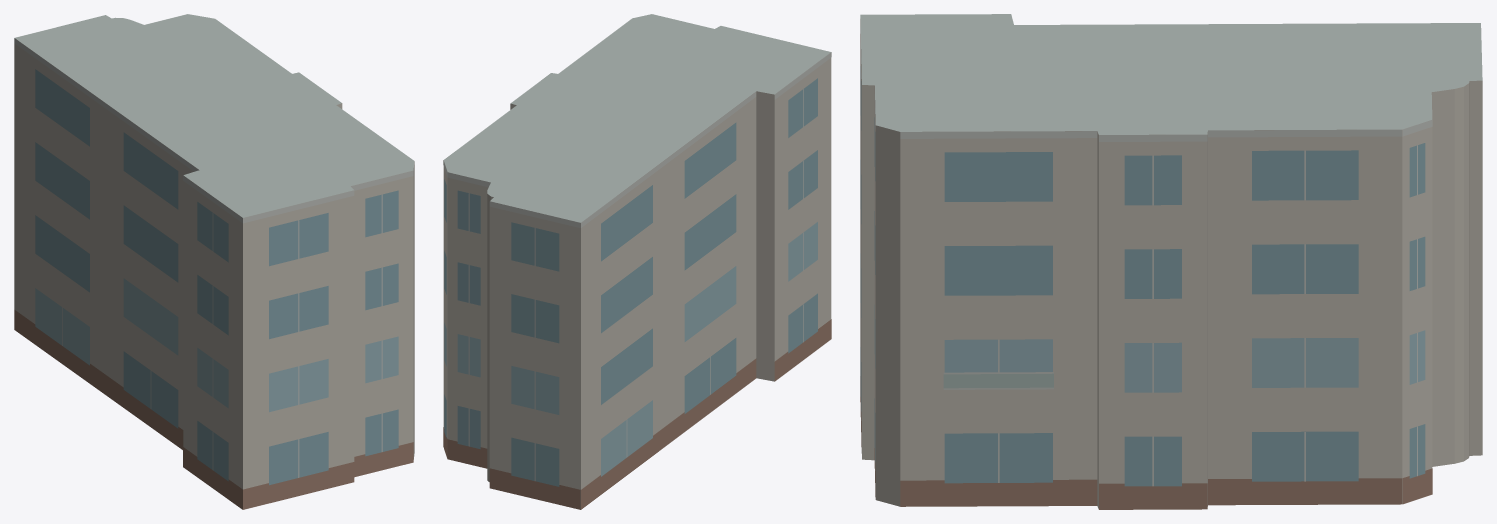
The model's file is survey-upis-32610030.glb.
3 views of the same model, side by side, from view 1: azimuth 30°, elevation 25°; view 2: azimuth 150°, elevation 25°; view 3: azimuth 270°, elevation 25° (orthographic). The views are drawn at different scales.
Visible parts, largest first — view 1: survey-upis-32610030.tmp; view 2: survey-upis-32610030.tmp; view 3: survey-upis-32610030.tmp.
Boxes of the visible parts, box(x1,y1,x2,y2) form: survey-upis-32610030.tmp: box(14, 14, 414, 509); survey-upis-32610030.tmp: box(443, 14, 831, 509); survey-upis-32610030.tmp: box(860, 14, 1482, 509).
Bounding box in the file's own units: 8.94 × 12.9 × 19.42.
